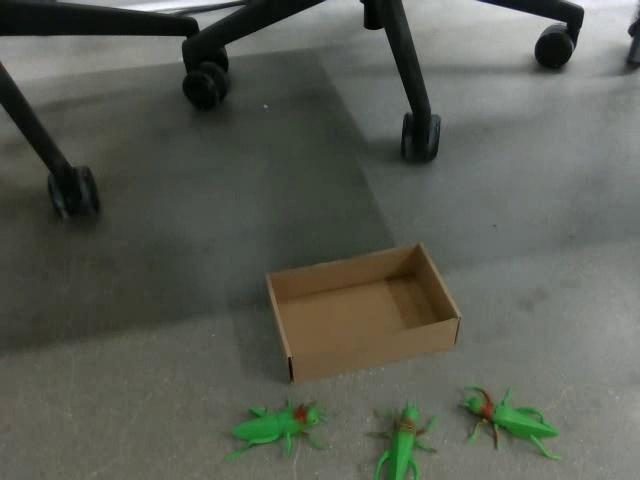box: (264, 241, 462, 384)
grasshopper: (457, 384, 561, 460), (223, 397, 329, 463), (364, 398, 438, 478)
